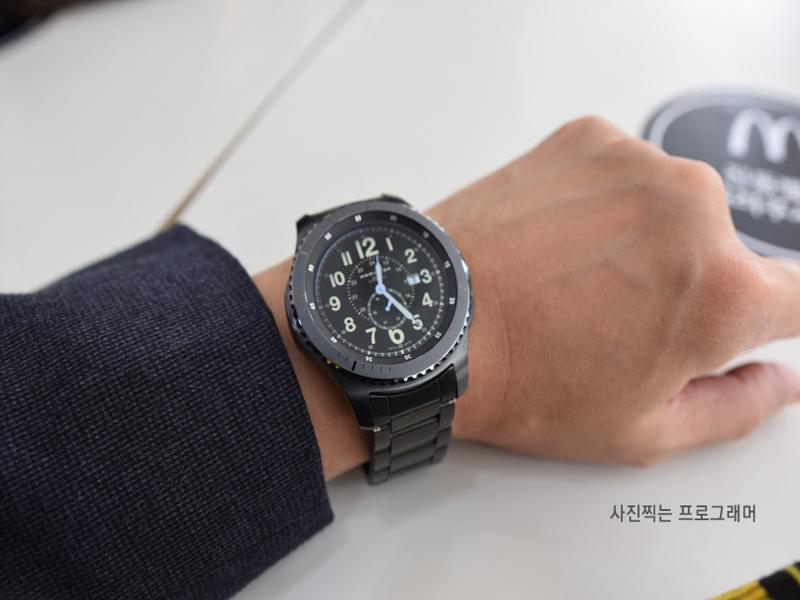watch: (287, 189, 474, 491)
